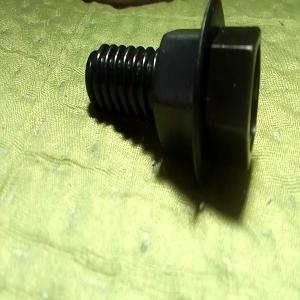parafuso: (84, 0, 262, 188)
